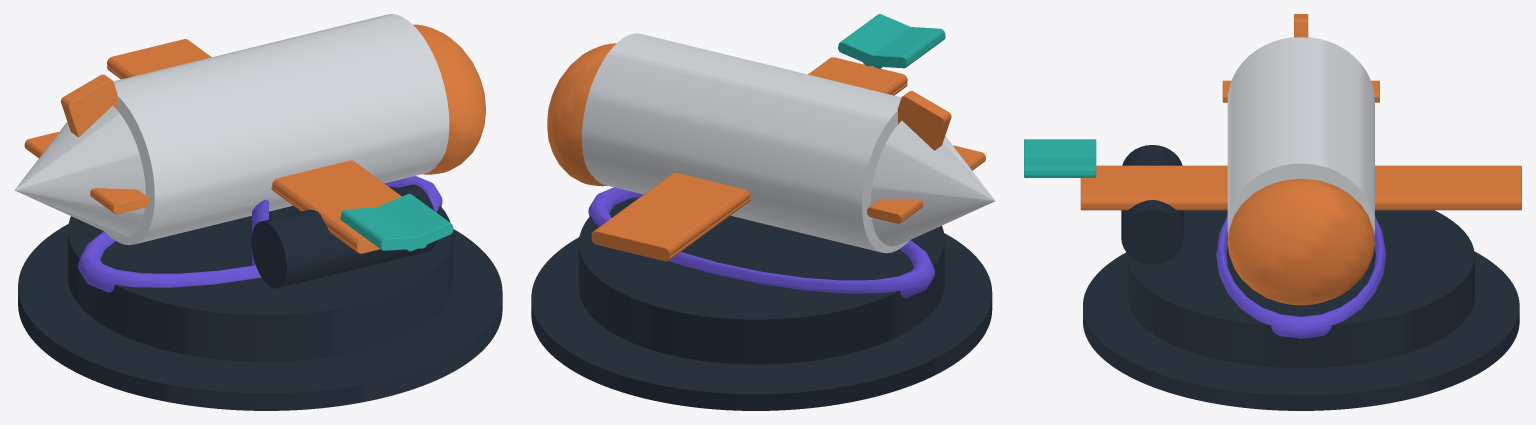
File: 0355_航空航天图鉴_Alice电动飞机.glb
The picture shows the model from 3 angles, left to right: view 1: azimuth 30°, elevation 25°; view 2: azimuth 150°, elevation 25°; view 3: azimuth 270°, elevation 25°; orthographic projection. The views are drawn at different scales.
Parts seen in each view (by area): view 1: card_0355; view 2: card_0355; view 3: card_0355.
Part boxes in pixels (left/top/right/bottom): card_0355: left=14, top=14, right=502, bottom=410; card_0355: left=531, top=14, right=995, bottom=410; card_0355: left=1024, top=14, right=1521, bottom=410.
Size of the model in its own units: 1.79 by 1 by 1.91.
